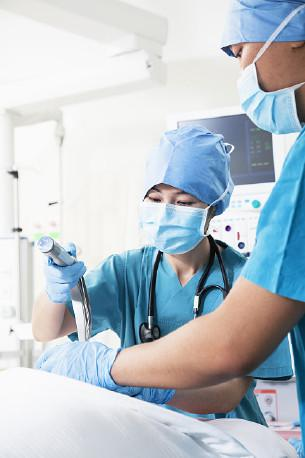OK: (235, 41, 305, 134), (139, 177, 216, 254)
